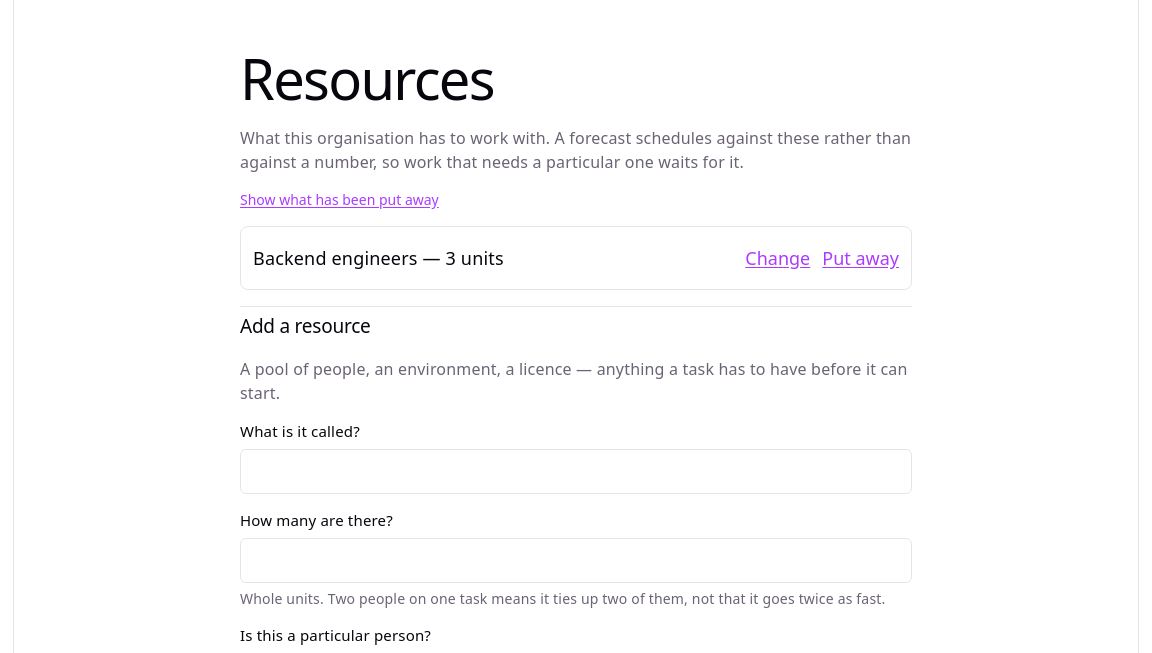
Test: ResourcesPage › says why a change was refused
Expected: the heading "Resources" is shown, 240,40 -> 494,116
Click the button "Change". click: [778, 258]
box: 745,239 -> 810,277
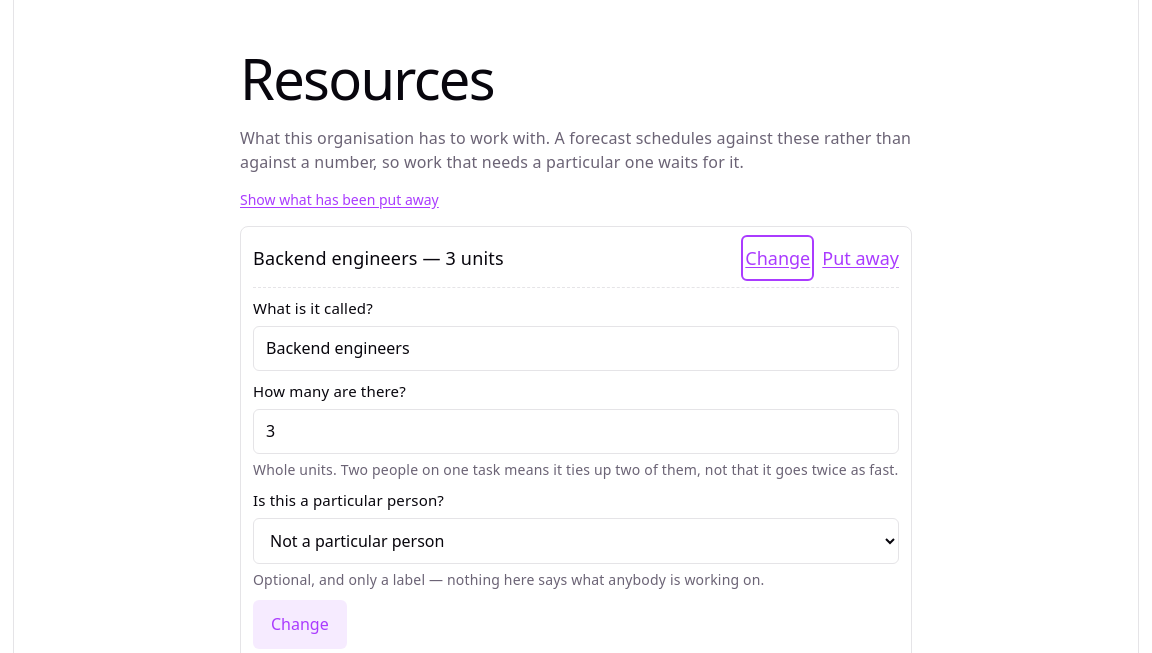
Click the 2nd button "Change". click: [300, 625]
box: 253,600 -> 347,649
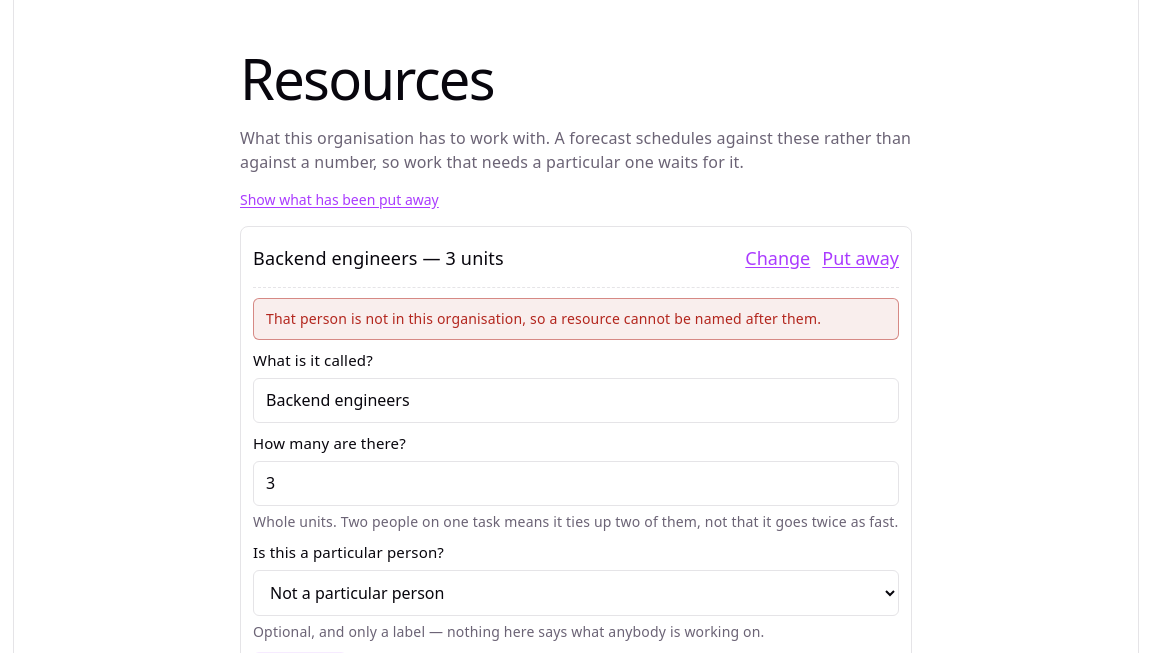
Now the text "That person is not in this organisation, so a resource cannot be named after them." is shown, box 266,309 -> 821,328
